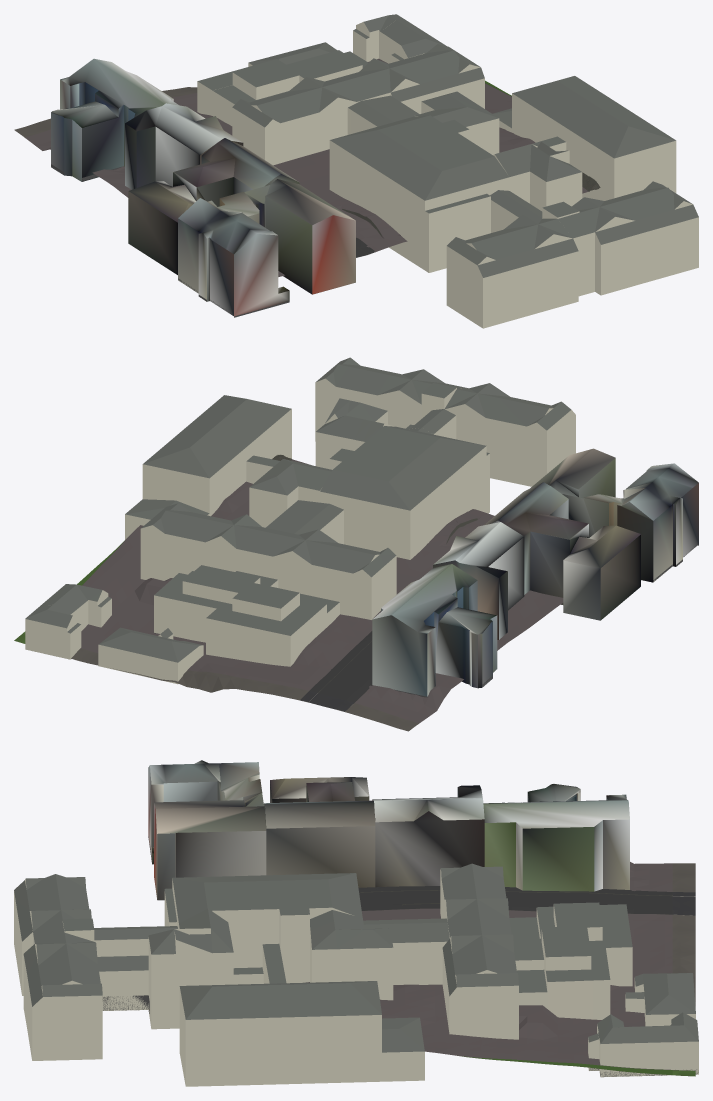
The picture shows the model from 3 angles, top to bottom: view 1: azimuth 30°, elevation 25°; view 2: azimuth 150°, elevation 25°; view 3: azimuth 270°, elevation 25°; orthographic projection. The views are drawn at different scales.
Visible parts, largest first — view 1: c_m02_p06; view 2: c_m02_p06; view 3: c_m02_p06.
Boxes of the visible parts, x1,y1,x2,y2 form: c_m02_p06: [14, 14, 698, 328]; c_m02_p06: [14, 357, 698, 731]; c_m02_p06: [14, 760, 698, 1086].
Bounding box in the file's own units: 150 × 30.11 × 179.
